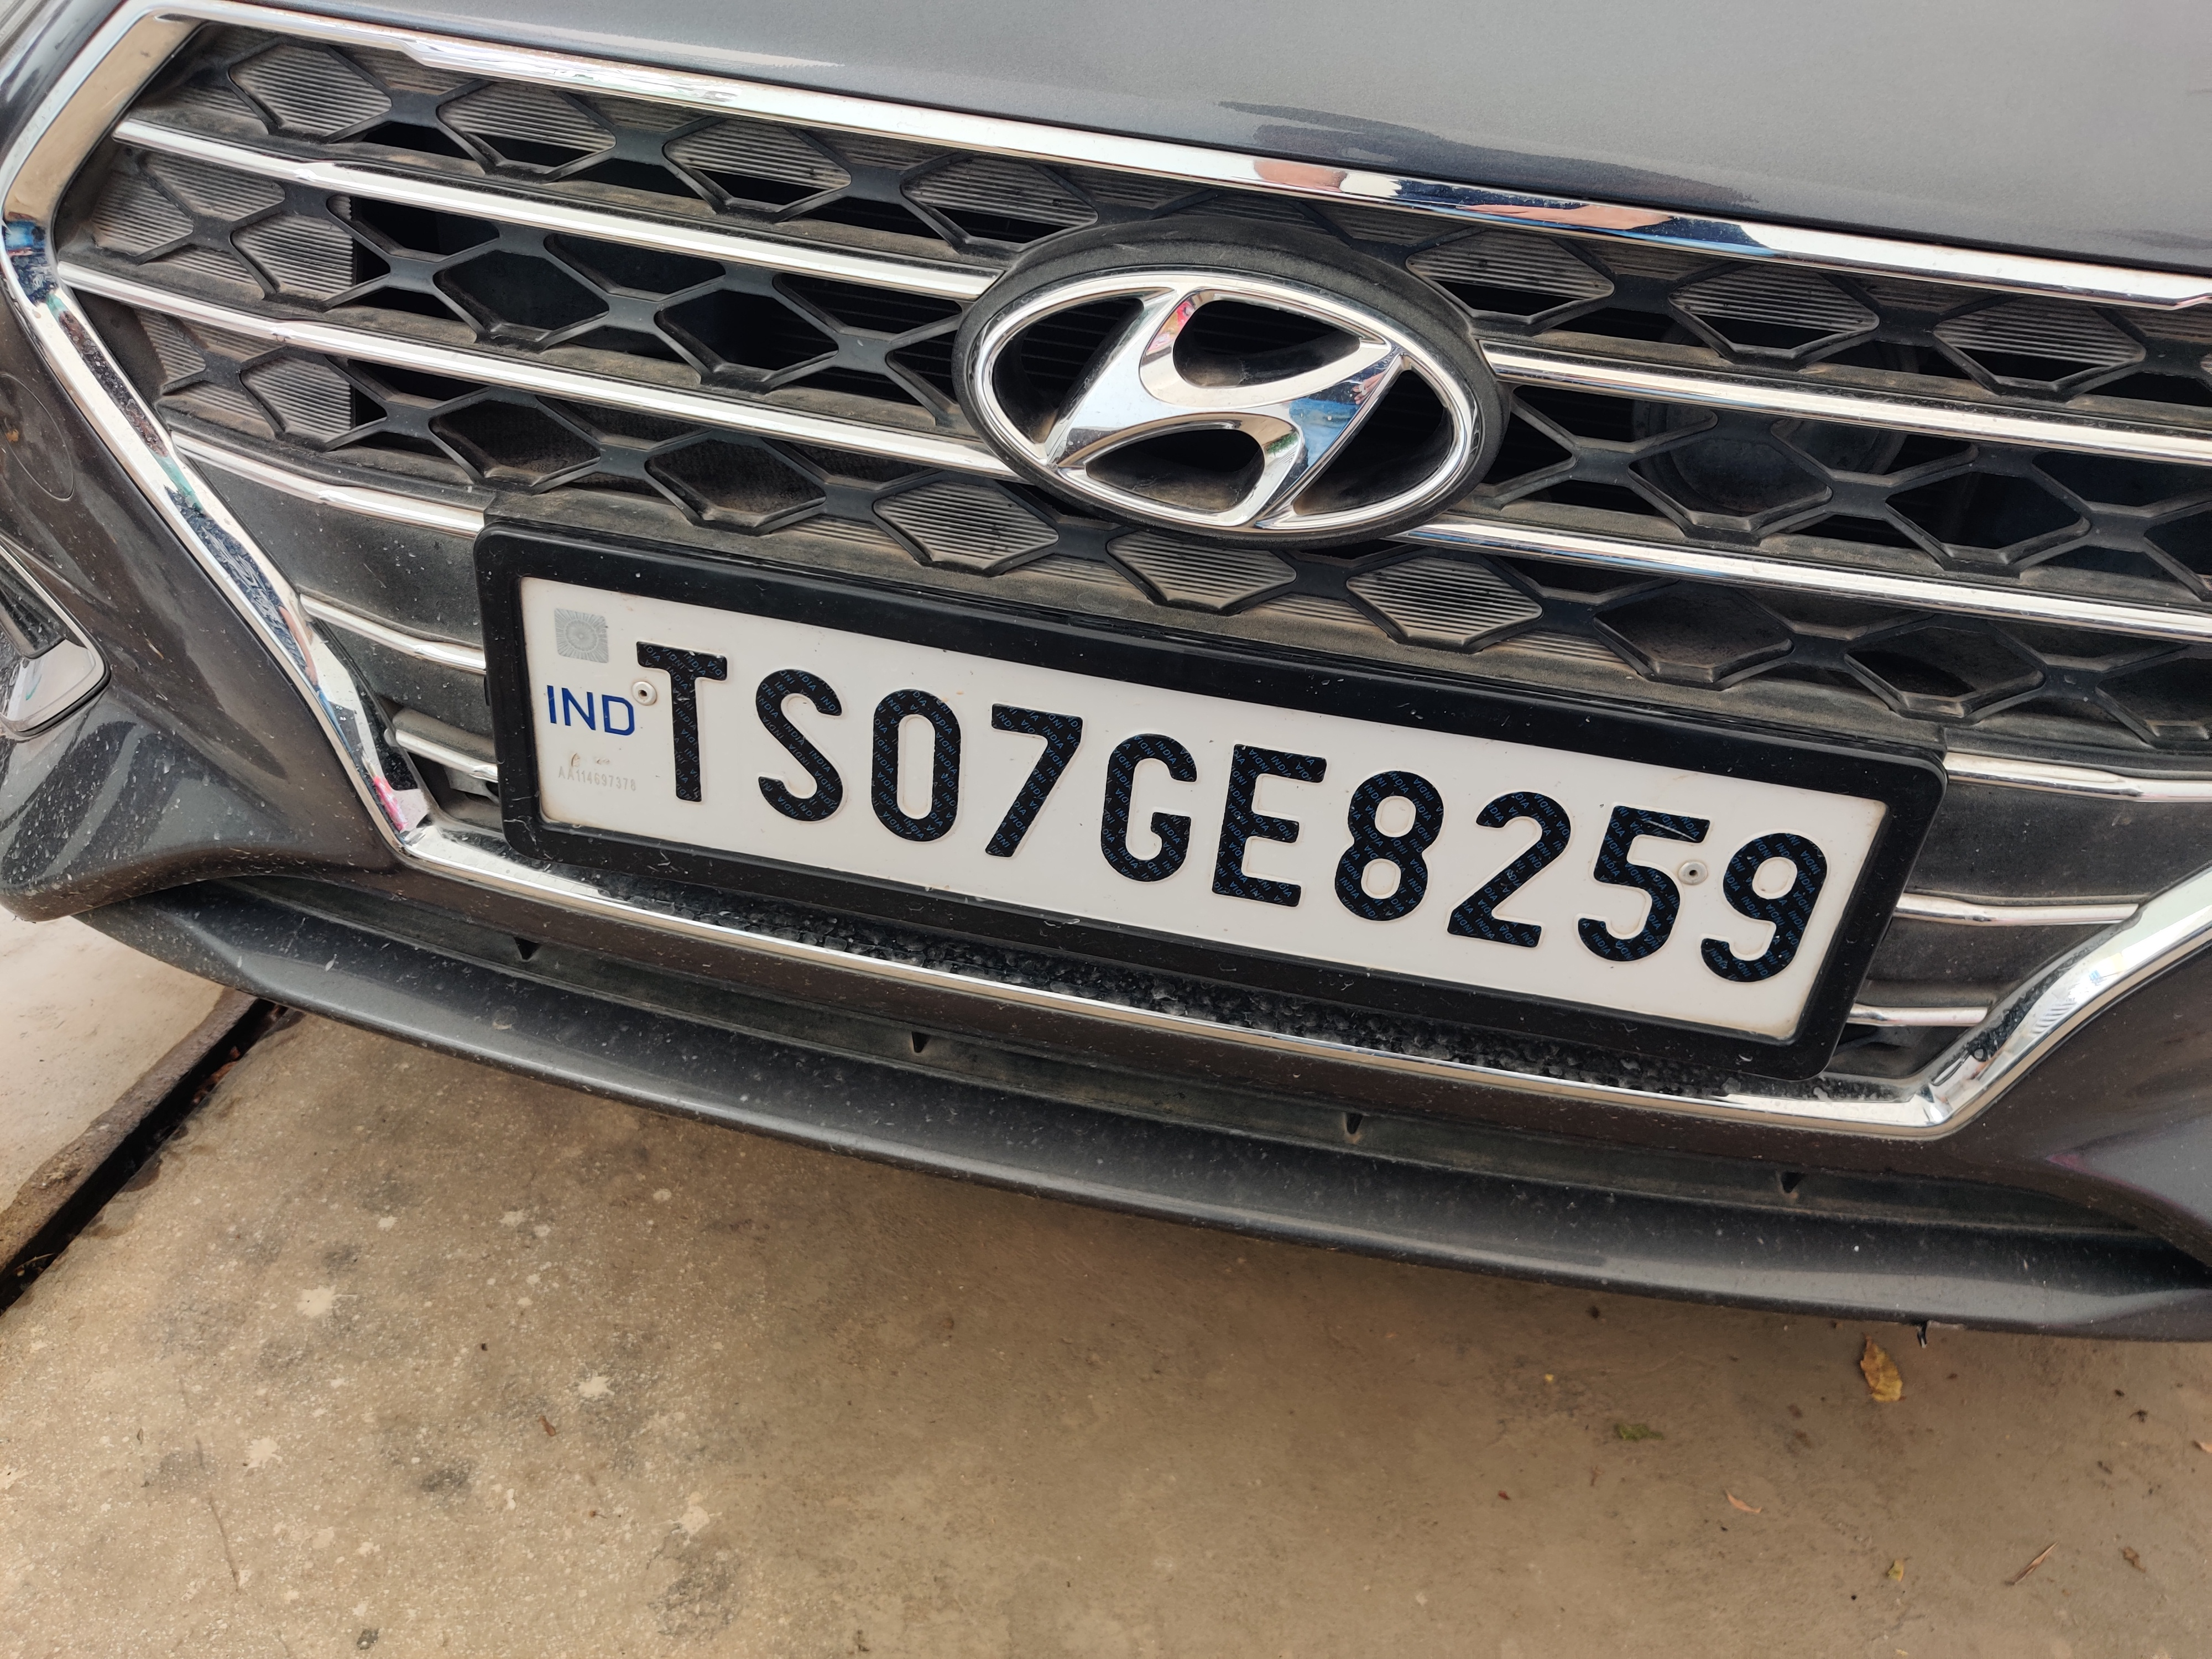plate: (452, 495, 1963, 1172)
